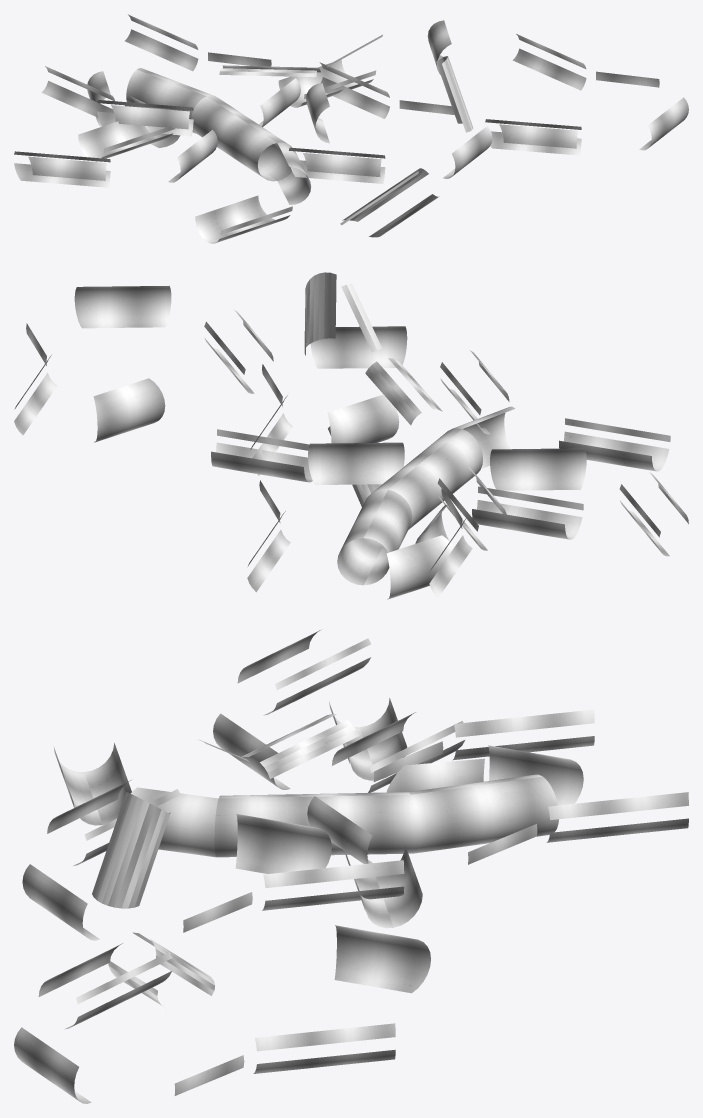
File: Scrap3.fbx
3 views of the same model, one above another, from view 1: azimuth 30°, elevation 25°; view 2: azimuth 150°, elevation 25°; view 3: azimuth 270°, elevation 25° (orthographic). The views are drawn at different scales.
Visible parts, largest first — view 1: Model; view 2: Model; view 3: Model.
Boxes of the visible parts, box(x1,y1,x2,y2) form: Model: box(14, 14, 688, 243); Model: box(14, 272, 688, 599); Model: box(14, 630, 688, 1103).
Bounding box in the file's own units: 30.53 × 9.48 × 20.88.
